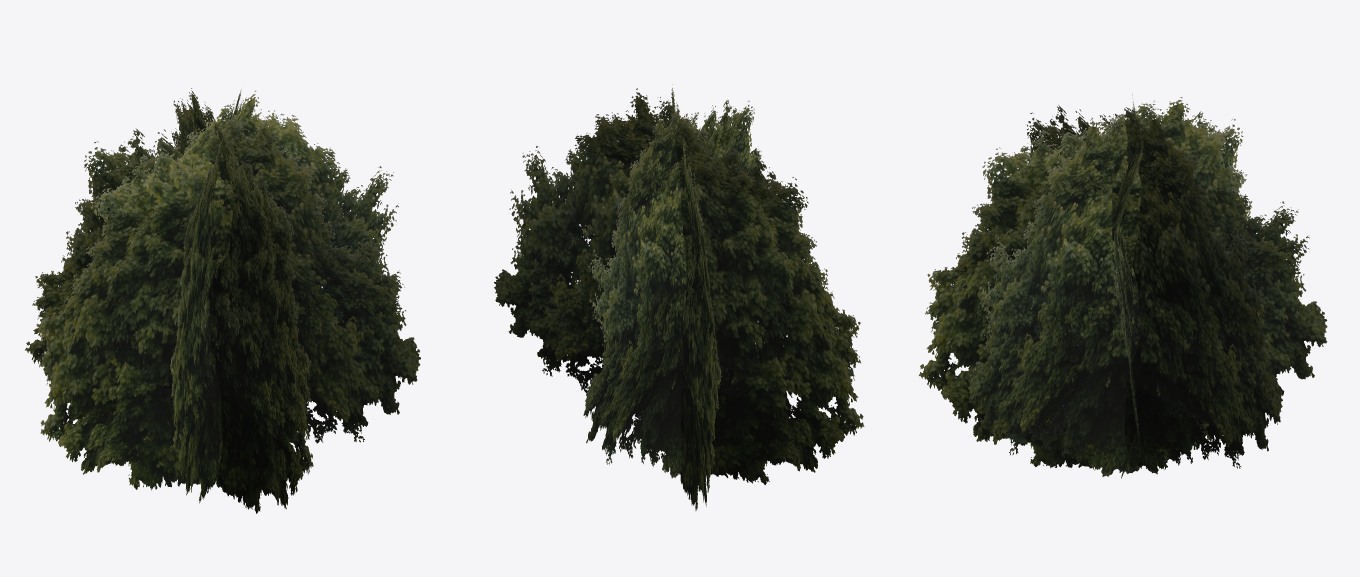
The model's file is bush1.fbx.
3 renders of one model, left to right at view 1: azimuth 30°, elevation 25°; view 2: azimuth 150°, elevation 25°; view 3: azimuth 270°, elevation 25°, orthographic.
Parts seen in each view (by area): view 1: Plane; view 2: Plane; view 3: Plane.
Boxes of the visible parts, x1,y1,x2,y2 form: Plane: [25, 88, 420, 513]; Plane: [494, 84, 864, 510]; Plane: [918, 93, 1327, 478].
Bounding box in the file's own units: 95.4 × 92.85 × 91.46.
1 material, 1 textured.
